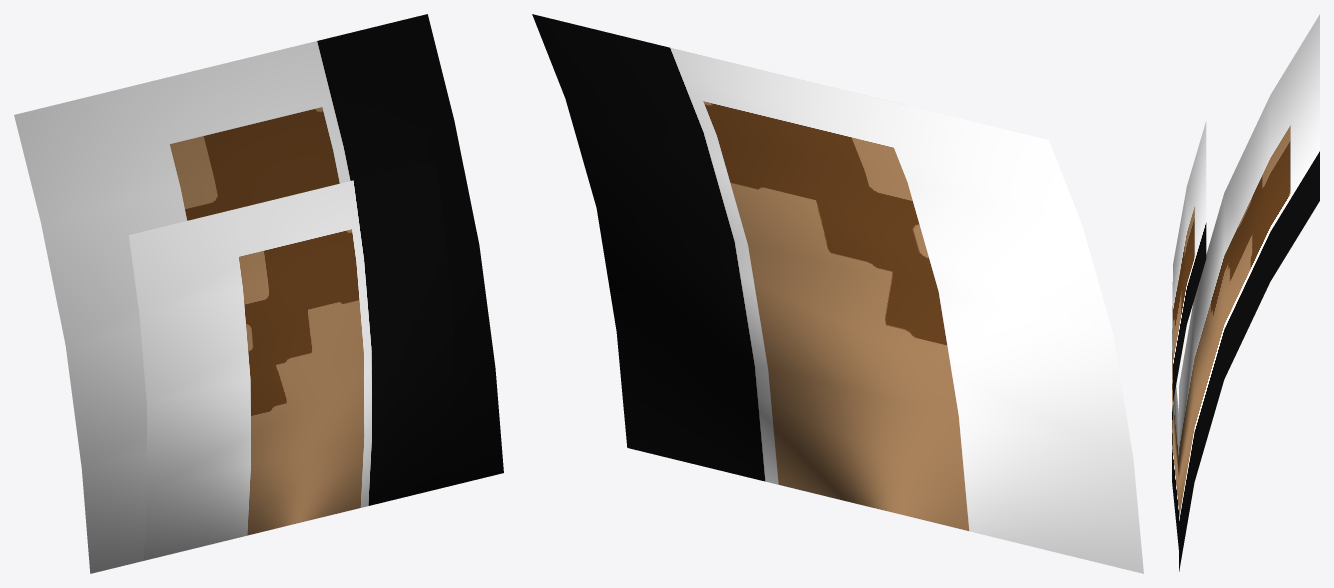
Rendered from Reeds.fbx.
3 renders of one model, left to right at view 1: azimuth 30°, elevation 25°; view 2: azimuth 150°, elevation 25°; view 3: azimuth 270°, elevation 25°, orthographic. The views are drawn at different scales.
Parts seen in each view (by area): view 1: Reeds; view 2: Reeds; view 3: Reeds.
Boxes of the visible parts, x1=… form: Reeds: x1=14, y1=14, x2=503, y2=573; Reeds: x1=532, y1=14, x2=1143, y2=573; Reeds: x1=1172, y1=14, x2=1319, y2=571.
Size of the model in its own units: 200 by 186 by 66.94.
